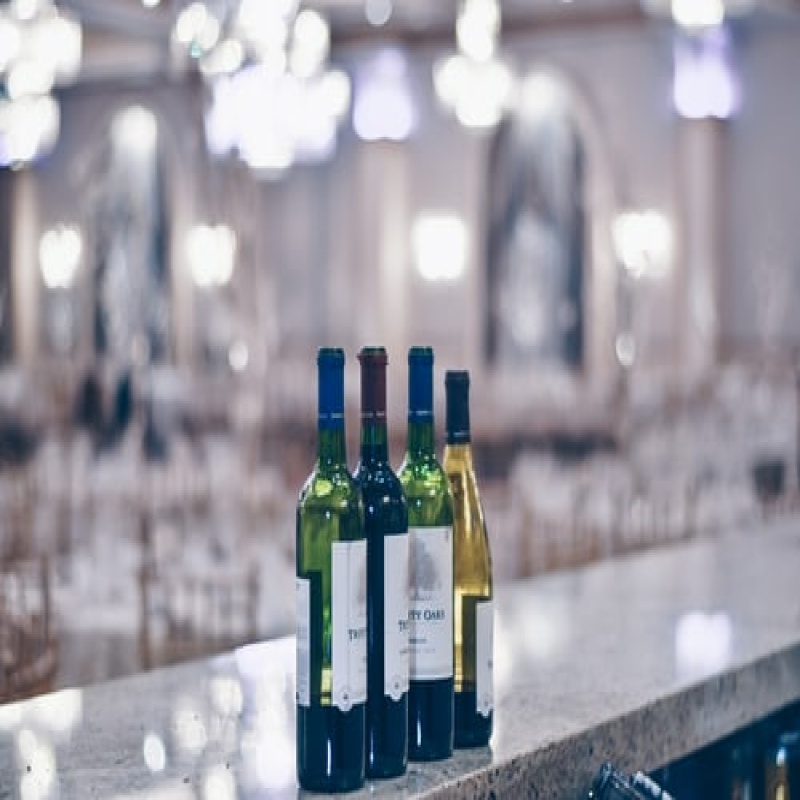wine: (293, 349, 362, 787), (360, 342, 408, 780), (406, 344, 454, 774)
